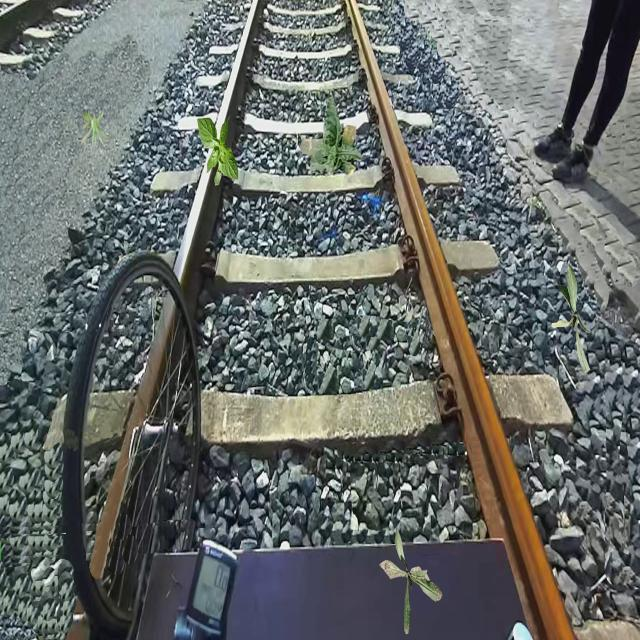Plant: (379, 523, 443, 635), (299, 93, 362, 176), (551, 265, 591, 375), (197, 115, 238, 186), (80, 108, 112, 154)
